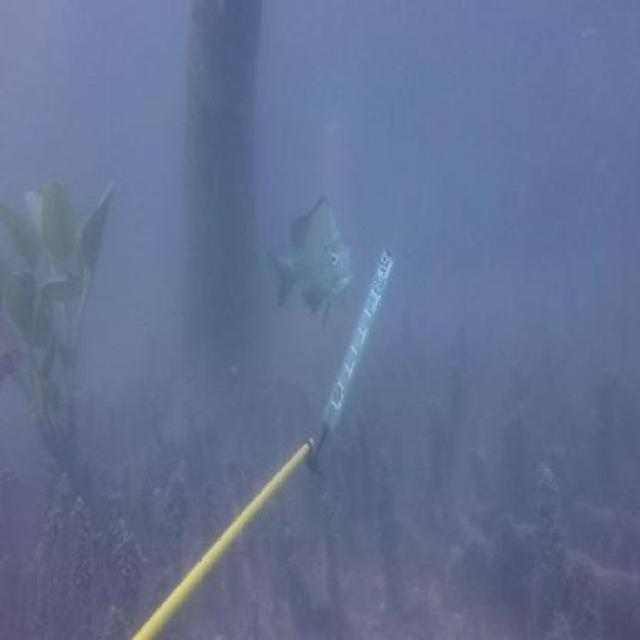acanthopagrus_palmaris: (261, 191, 353, 326)
